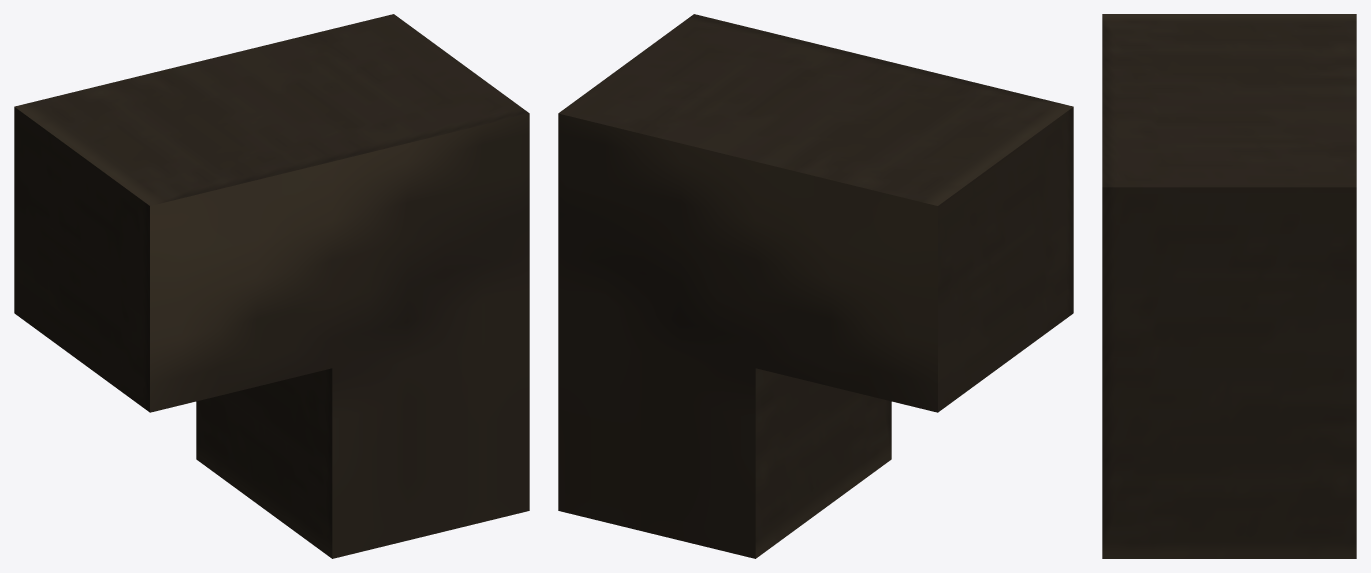
Rendered from pz_counter_dark_wall_corner.obj.
3 renders of one model, left to right at view 1: azimuth 30°, elevation 25°; view 2: azimuth 150°, elevation 25°; view 3: azimuth 270°, elevation 25°, orthographic. The views are drawn at different scales.
Size of the model in its own units: 1 by 1 by 0.62.
1 material, 1 textured.
